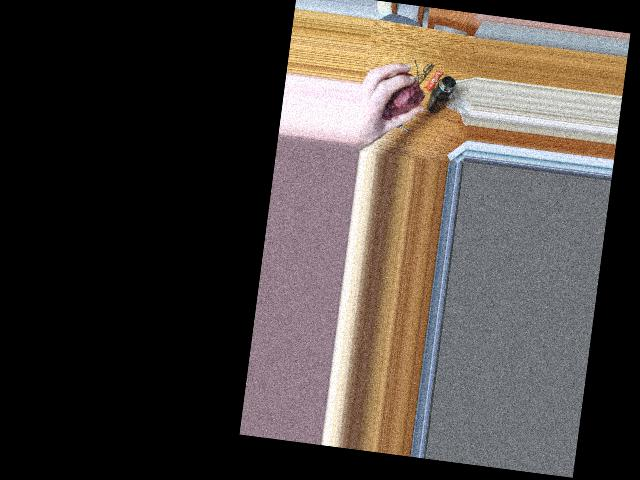onion: (380, 70, 423, 123)
